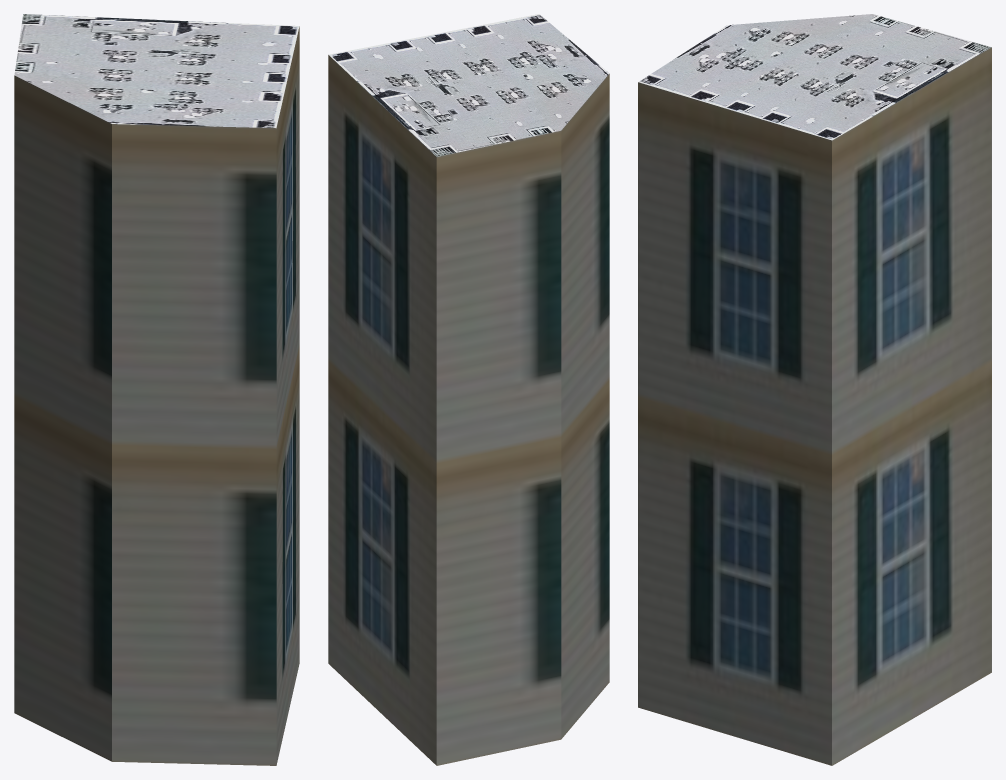
Rendered from ResTex__3926.fbx.
3 renders of one model, left to right at view 1: azimuth 30°, elevation 25°; view 2: azimuth 150°, elevation 25°; view 3: azimuth 270°, elevation 25°, orthographic. The views are drawn at different scales.
Parts seen in each view (by area): view 1: CityEngineMaterial_7_m, CityEngineMaterial_m; view 2: CityEngineMaterial_7_m, CityEngineMaterial_m; view 3: CityEngineMaterial_7_m, CityEngineMaterial_m.
Boxes of the visible parts, x1,y1,x2,y2 form: CityEngineMaterial_7_m: (14,26,299,765); CityEngineMaterial_m: (14,14,299,128); CityEngineMaterial_7_m: (328,55,609,765); CityEngineMaterial_m: (329,14,609,156); CityEngineMaterial_7_m: (638,47,991,765); CityEngineMaterial_m: (638,14,991,140).
Bounding box in the file's own units: 2.6 × 6 × 3.08.
2 materials, 2 textured.
